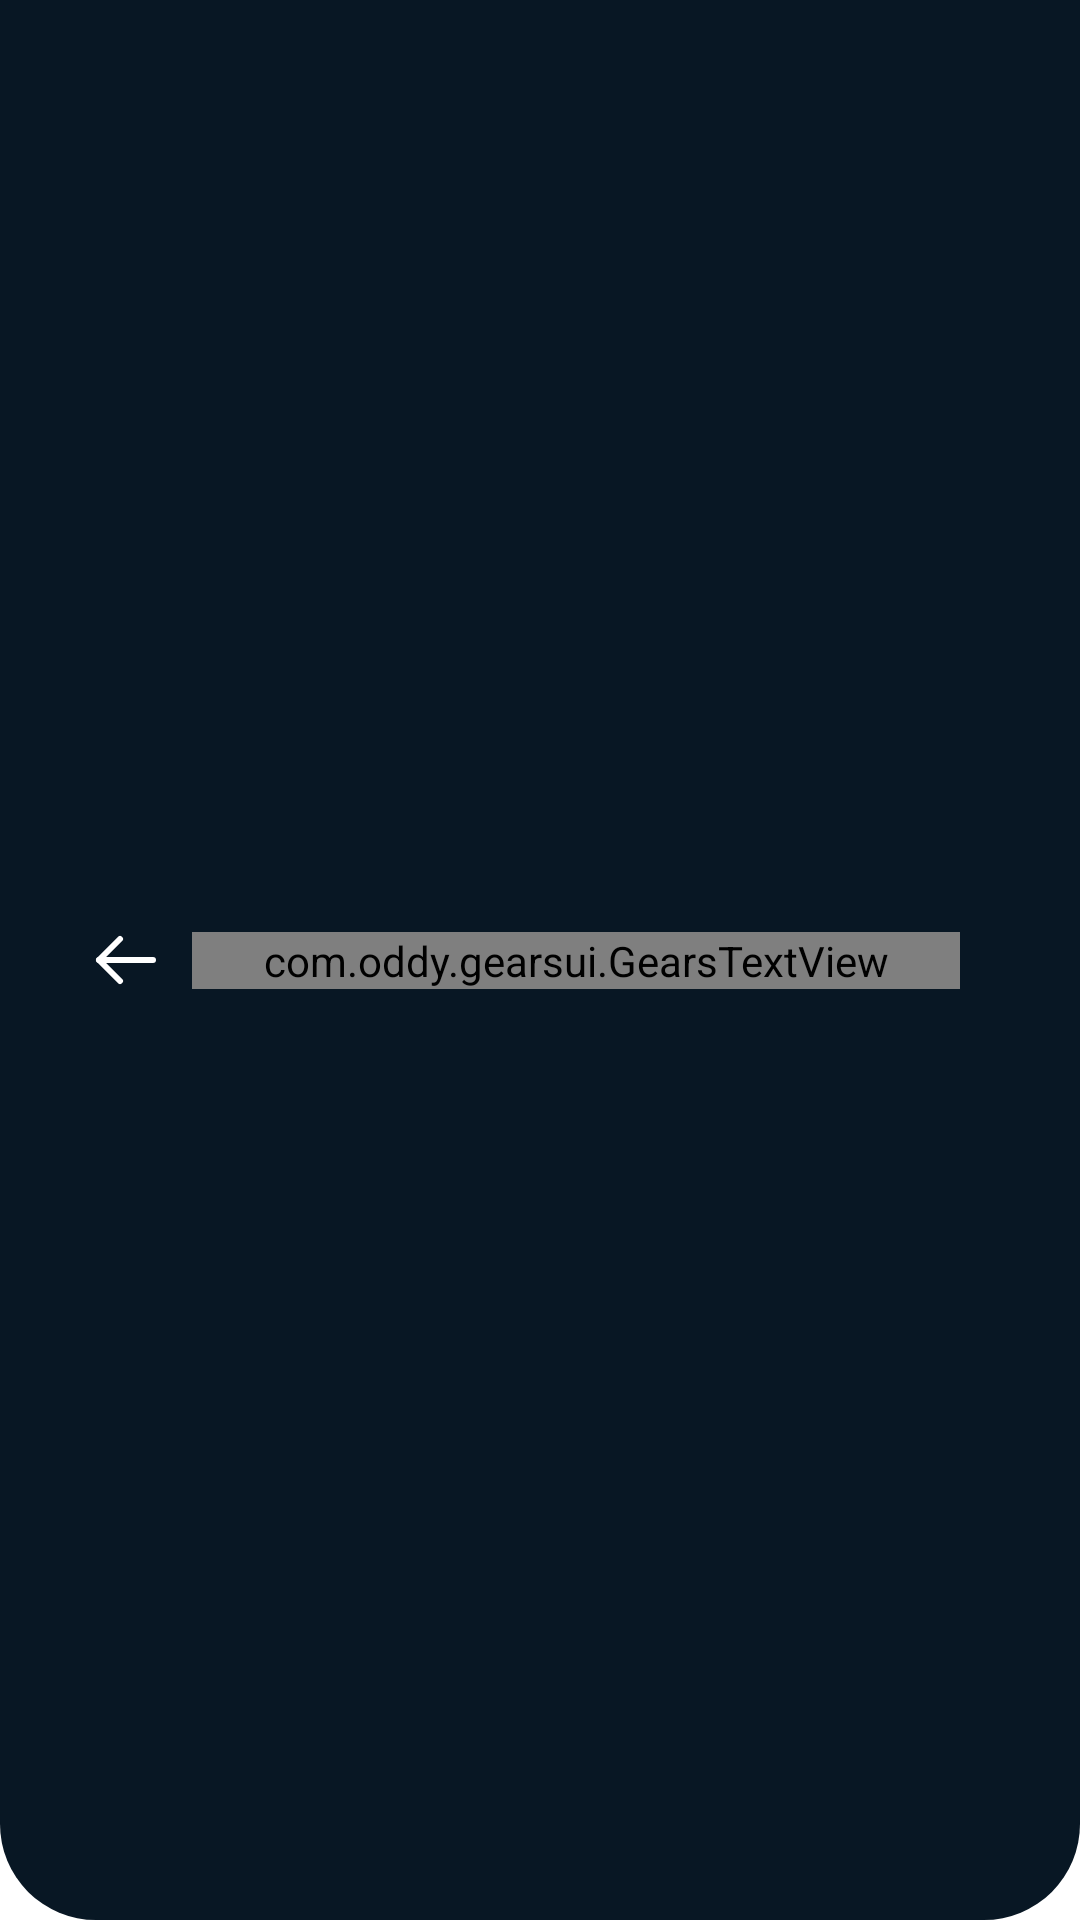

Screen size 1080×1920. Icon name, then its box in pixels as (x1, y1, x2, y2):
arrow left: (96, 936, 156, 984)
